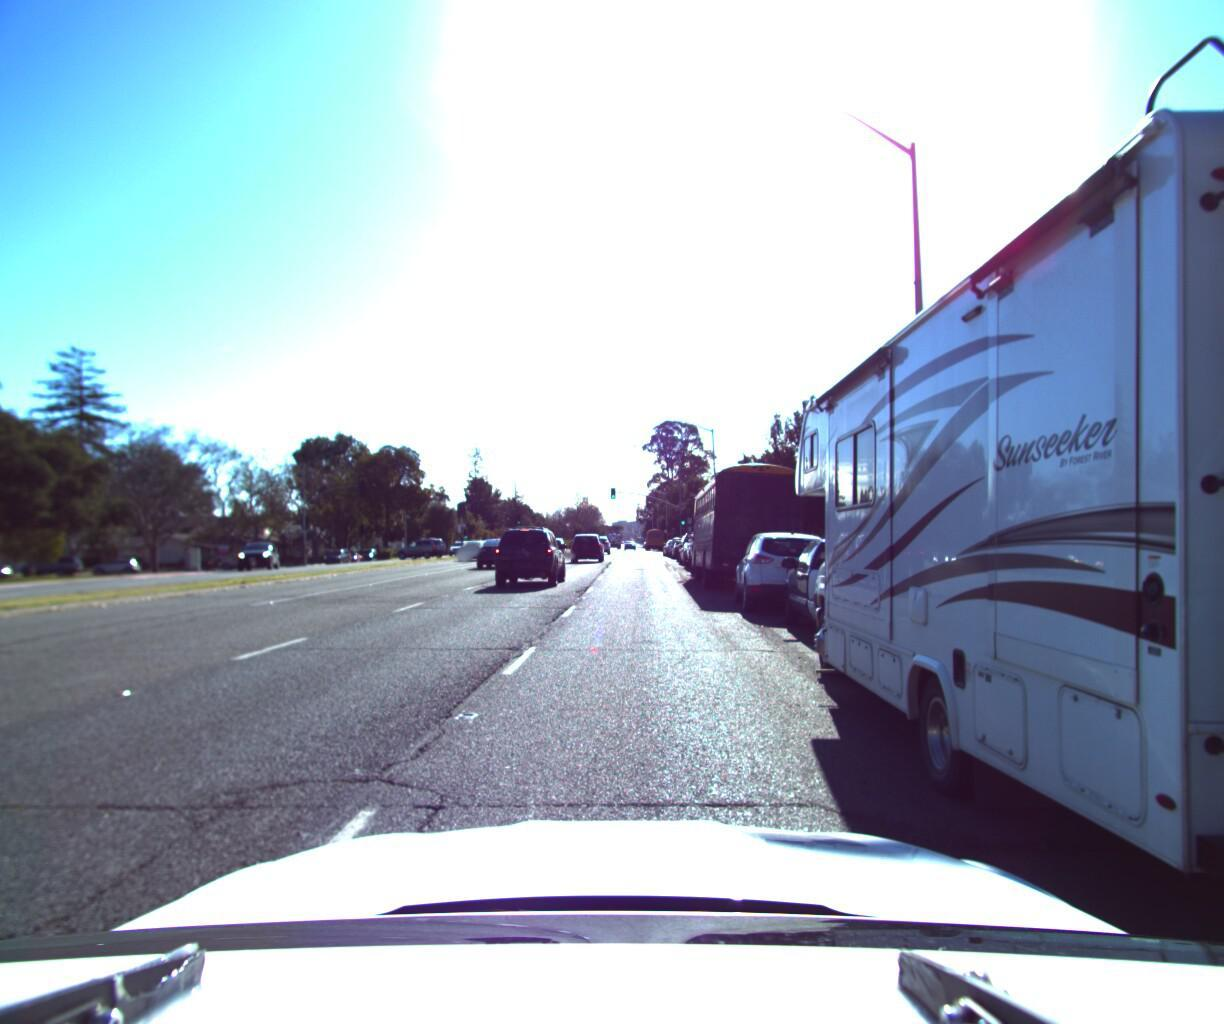bus: (692, 448, 820, 593)
car: (776, 525, 984, 656), (736, 523, 848, 614), (490, 521, 572, 586), (458, 529, 522, 568), (18, 553, 91, 577), (237, 537, 289, 568), (566, 530, 609, 561), (391, 538, 446, 561), (215, 545, 268, 565), (457, 534, 497, 561), (91, 555, 150, 574)
other_vehicle: (776, 0, 1224, 1024)
